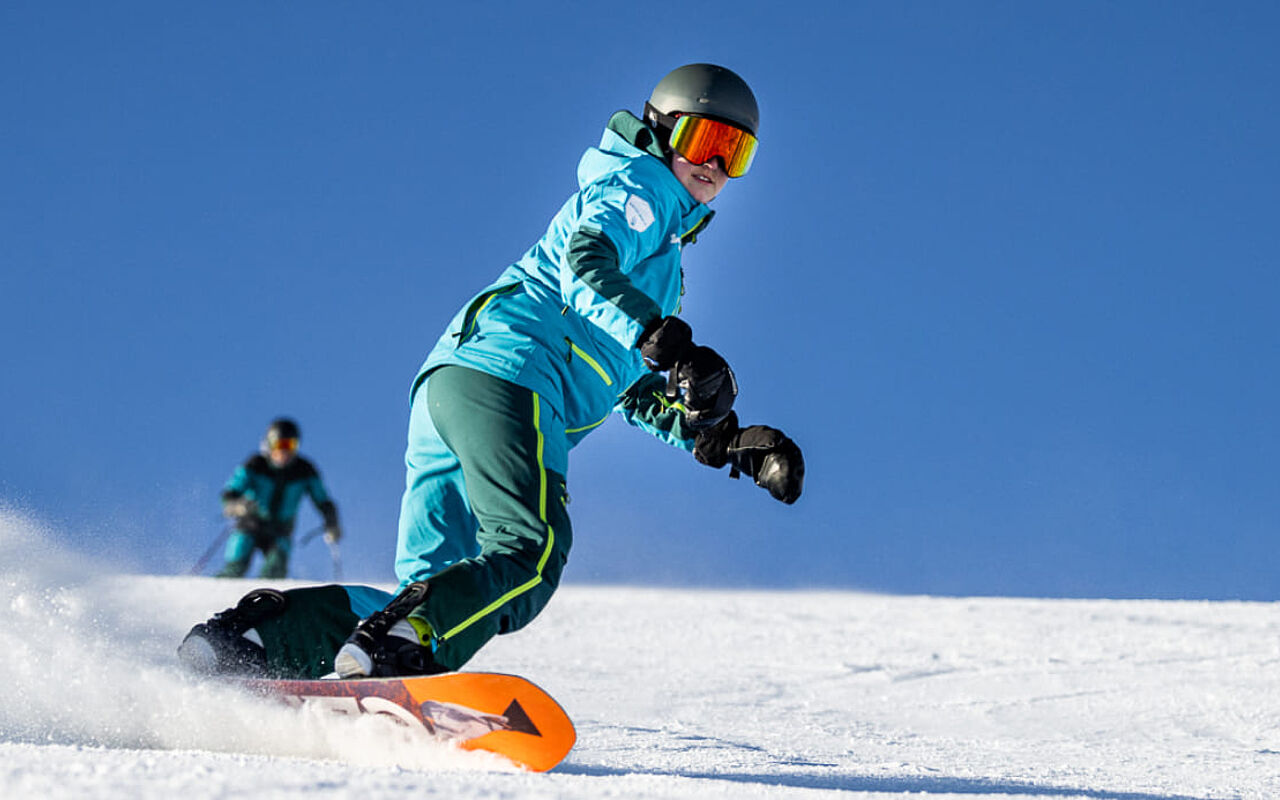snowboarder: (162, 63, 827, 775)
